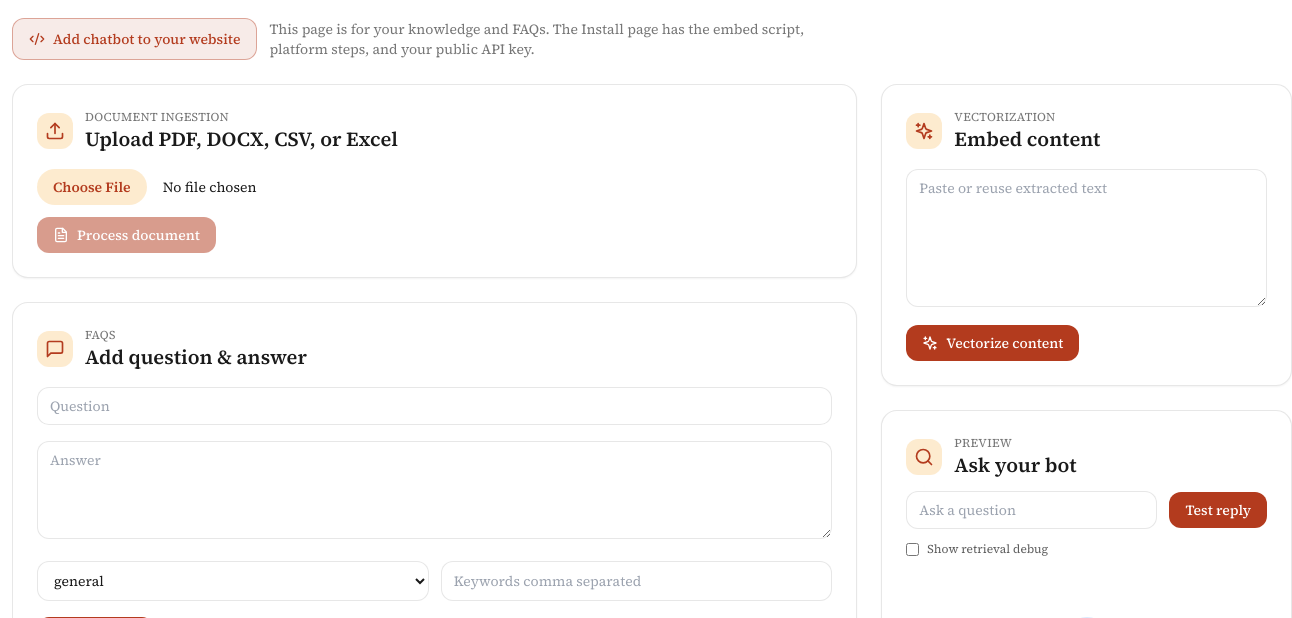
it: ChatbotBuilder preview › renders retrieval debug panel when debug data is returned
Step 1. Click the checkbox labelled "Show retrieval debug" → (913, 549), box left=906, top=542, right=919, bottom=556
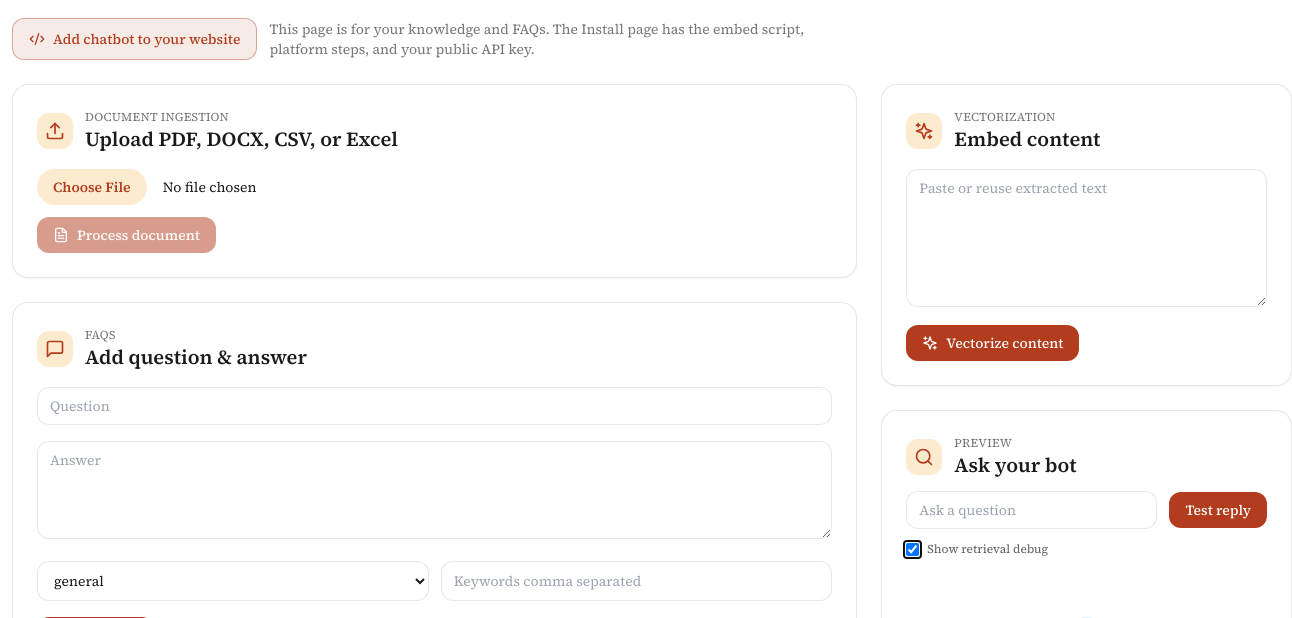
Step 2. Type "hours?" into the field with placeholder "Ask a question" → (1032, 510), box left=906, top=491, right=1157, bottom=529
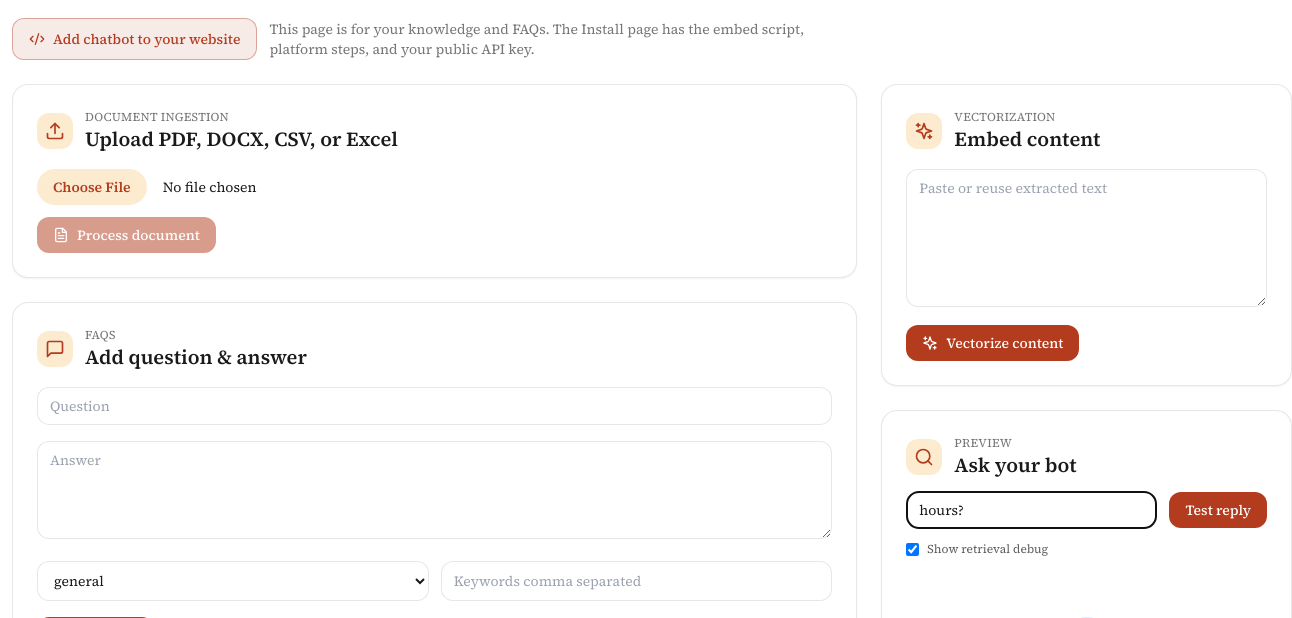
Step 3. Click the button "Test reply" → (1218, 510), box left=1169, top=492, right=1267, bottom=528
(page scrolled)
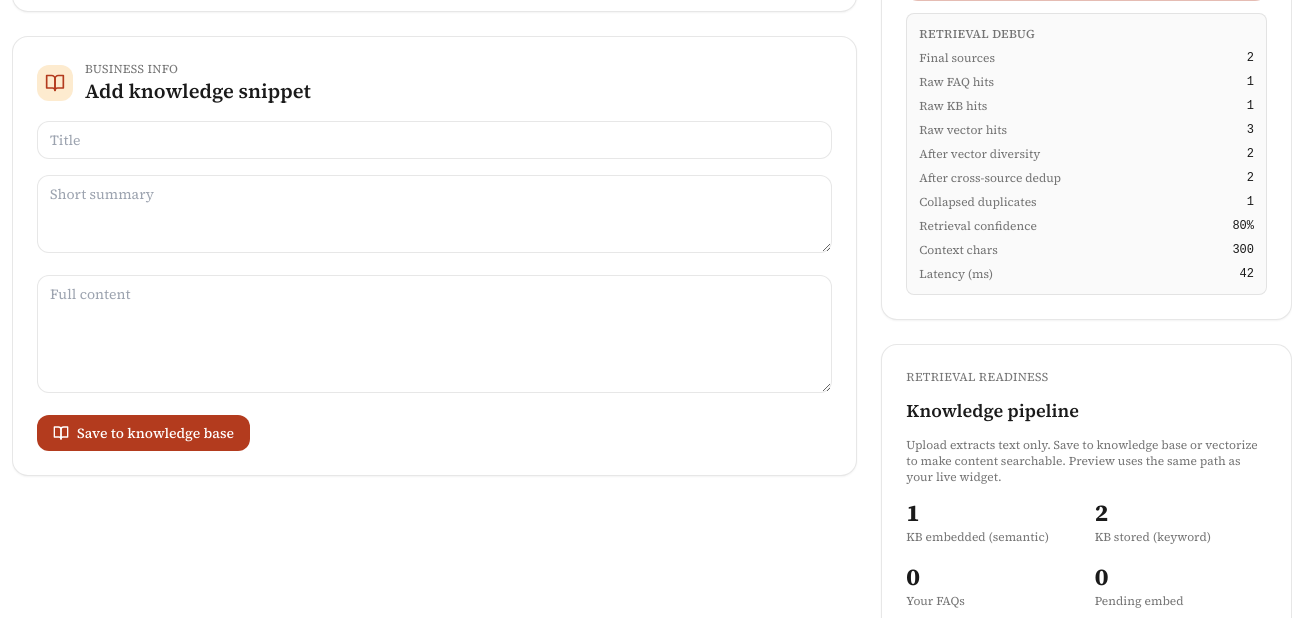
Expected: the text "Retrieval debug" is shown, left=919, top=26, right=1035, bottom=42
Expected: the text "Final sources" is shown, left=919, top=50, right=995, bottom=66
Expected: the text "42" is shown, left=1240, top=267, right=1254, bottom=281
